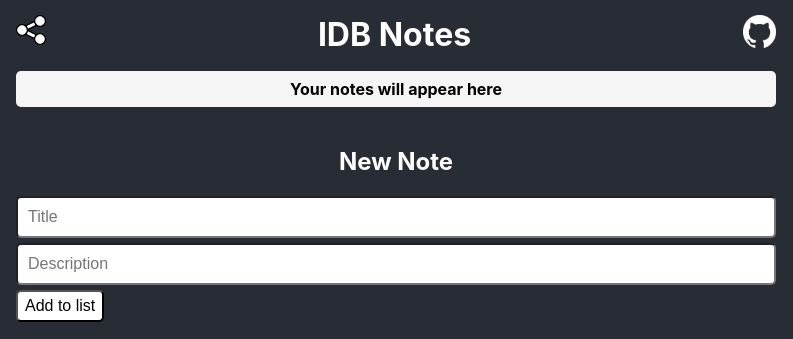
it: updtes input value upon submiting empty note
This screenshot has width=793, height=339.
Click the button "Add to list": (60, 306) [16,290,104,322]
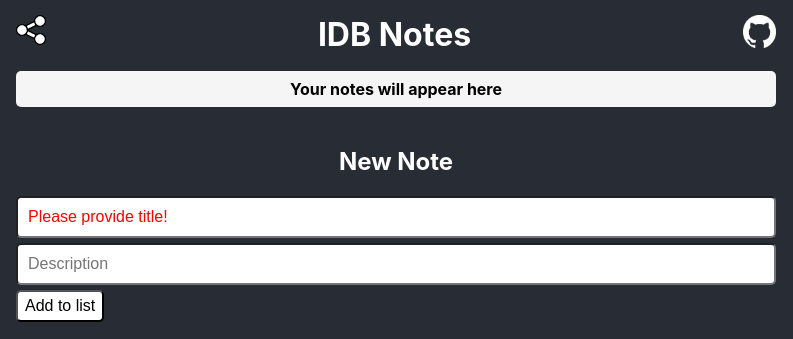
Result: the field with id "title" holds "Please provide title!" at [16,196,776,238]
